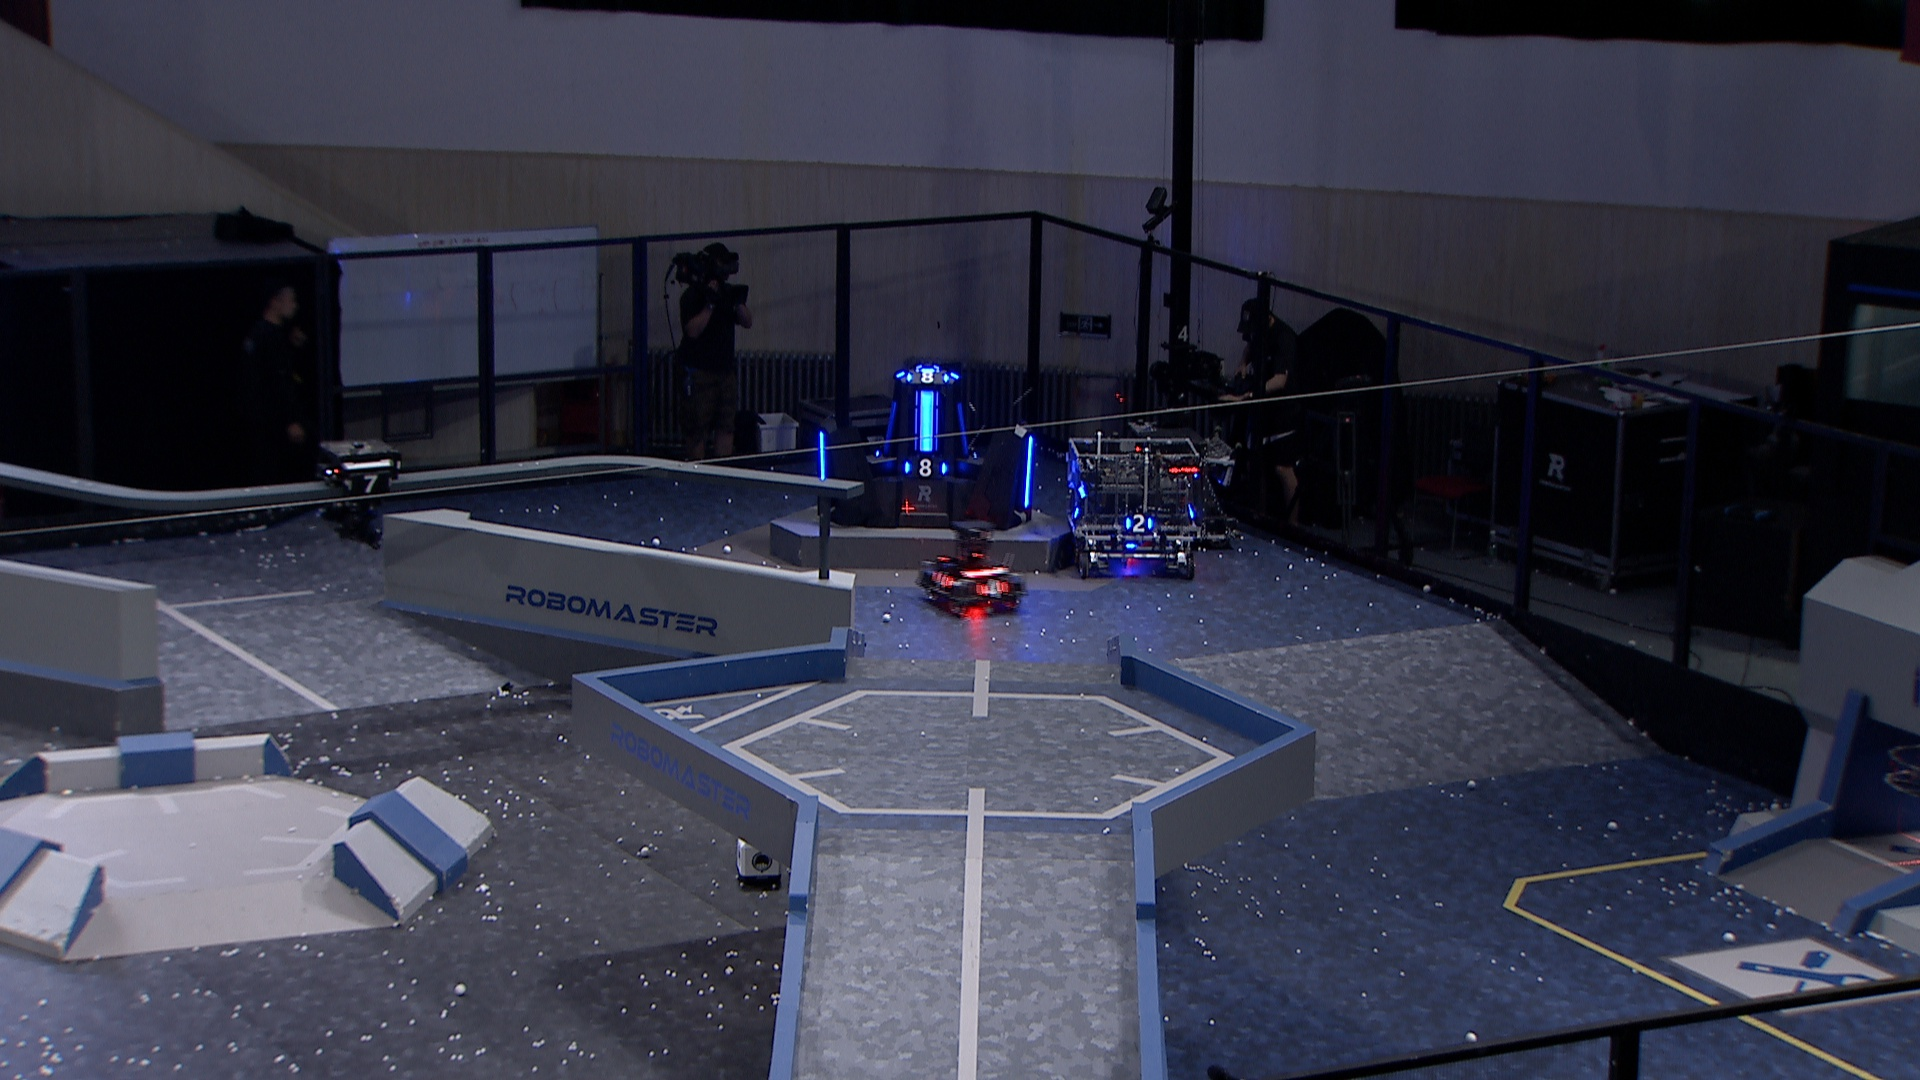armor: (916, 389, 938, 458), (344, 472, 396, 495), (1022, 434, 1036, 510), (953, 400, 973, 454), (882, 400, 899, 458), (903, 458, 948, 477), (905, 368, 951, 386), (975, 578, 1010, 600), (816, 429, 829, 483), (1125, 513, 1155, 534), (931, 568, 953, 591)
base: (814, 363, 1038, 534)
car: (1062, 434, 1205, 579), (1124, 425, 1240, 549), (910, 529, 1029, 617)
watcher: (319, 439, 404, 551)
